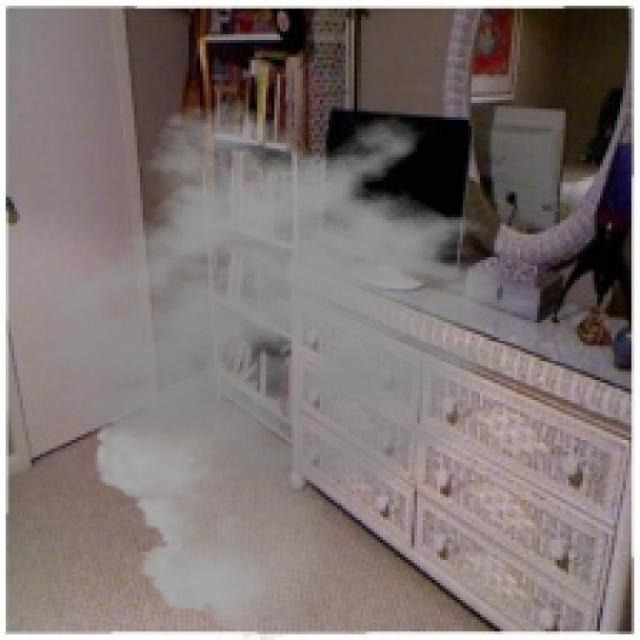smoke: (26, 100, 571, 637)
